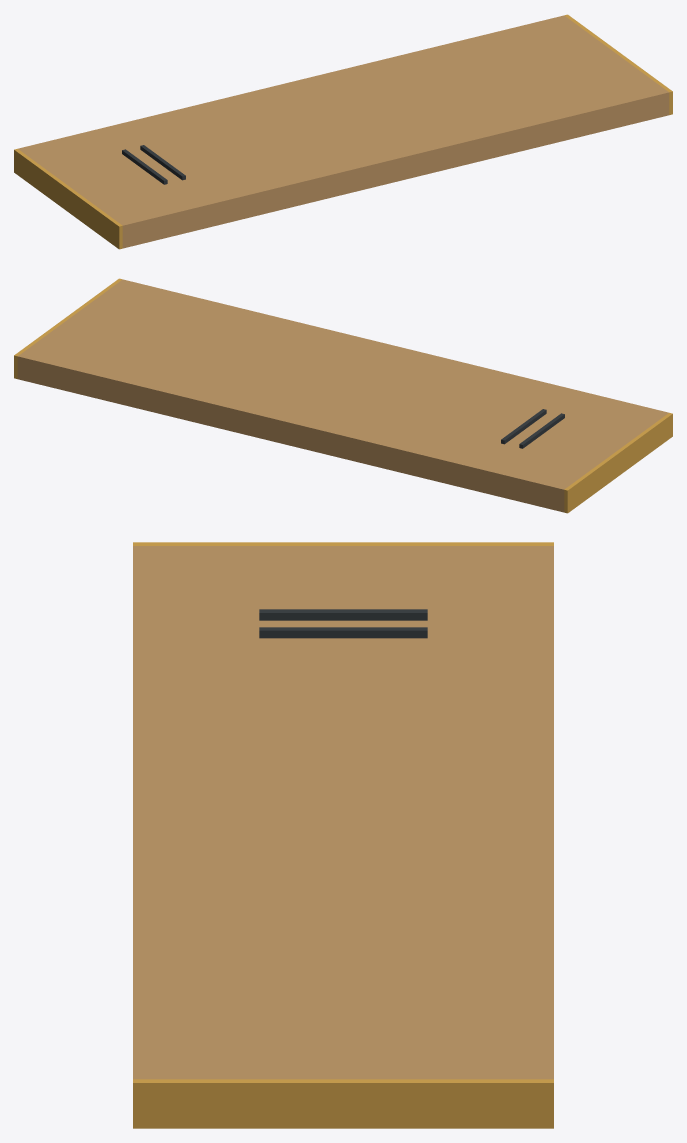
File: tonewood.glb
The picture shows the model from 3 angles, top to bottom: view 1: azimuth 30°, elevation 25°; view 2: azimuth 150°, elevation 25°; view 3: azimuth 270°, elevation 25°; orthographic projection. The views are drawn at different scales.
Visible parts, largest first — view 1: tonewood:compound; view 2: tonewood:compound; view 3: tonewood:compound.
Boxes of the visible parts, <box> form: tonewood:compound: <box>14,14,672,249</box>; tonewood:compound: <box>14,278,672,513</box>; tonewood:compound: <box>133,542,553,1128</box>.
Bounding box in the file's own units: 0.608 × 0.028 × 0.2.
